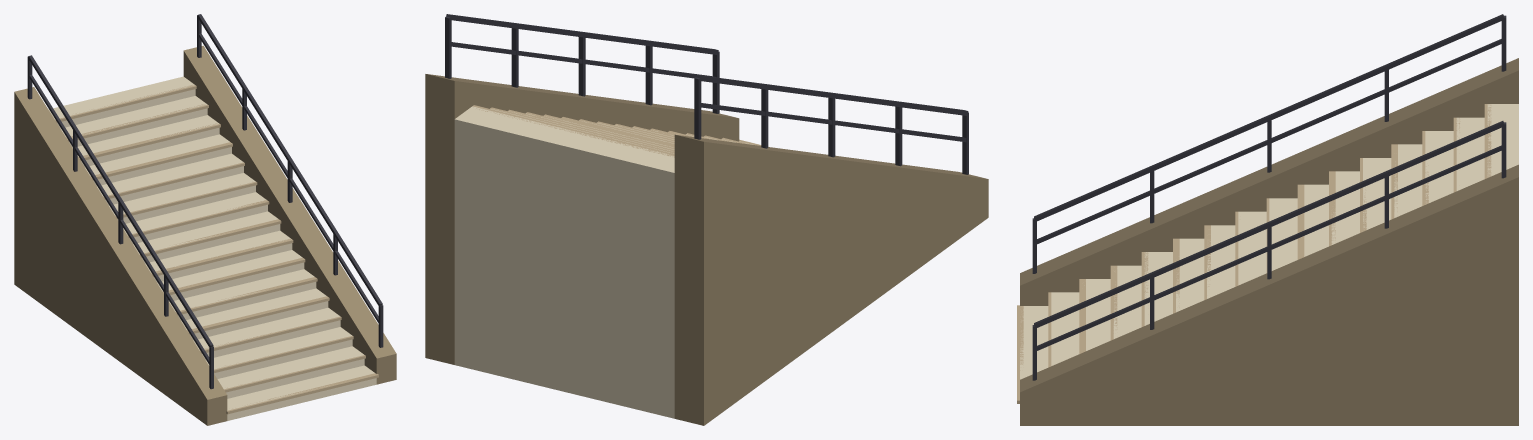
File: Stairs_Narrow.fbx
3 renders of one model, left to right at view 1: azimuth 30°, elevation 25°; view 2: azimuth 150°, elevation 25°; view 3: azimuth 270°, elevation 25°, orthographic. The views are drawn at different scales.
Parts seen in each view (by area): view 1: Stairs_Narrow; view 2: Stairs_Narrow; view 3: Stairs_Narrow.
Boxes of the visible parts, <box> form: Stairs_Narrow: <box>14,14,396,425</box>; Stairs_Narrow: <box>425,14,988,425</box>; Stairs_Narrow: <box>1017,14,1518,425</box>.
Bounding box in the file's own units: 3.8 × 4.43 × 6.76.
